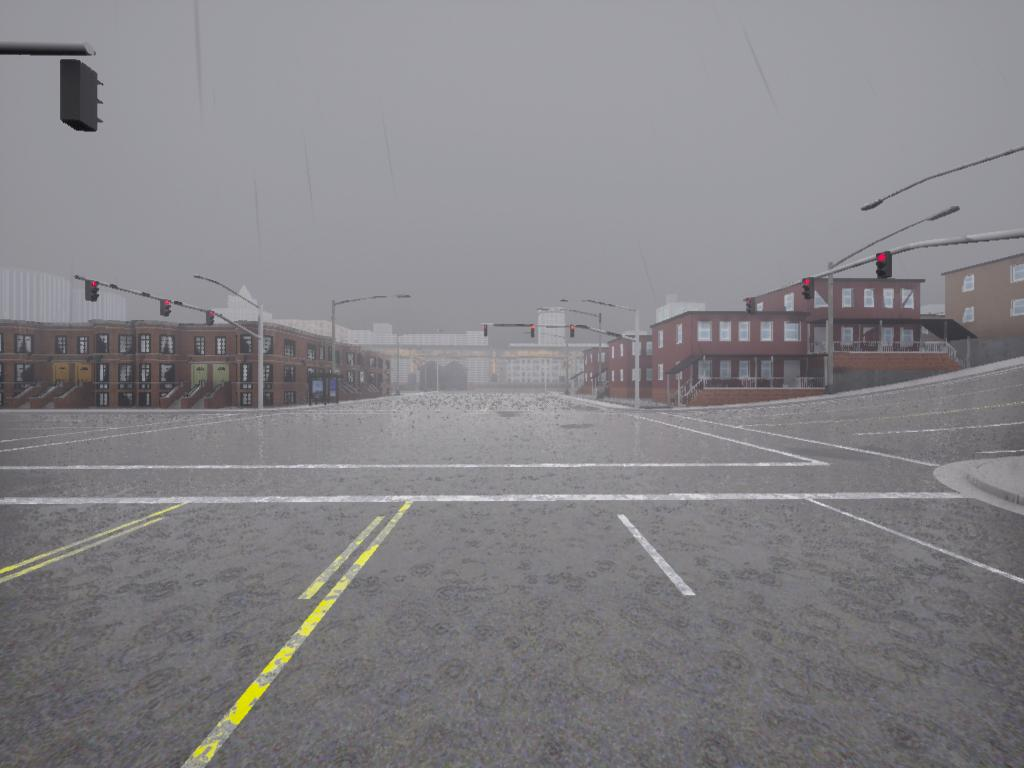traffic_light: (58, 64, 104, 134), (877, 255, 893, 282), (803, 276, 815, 301), (88, 280, 101, 303), (744, 297, 756, 317), (206, 310, 216, 328), (162, 302, 172, 318), (530, 325, 536, 340), (484, 325, 489, 339), (571, 325, 575, 340)
